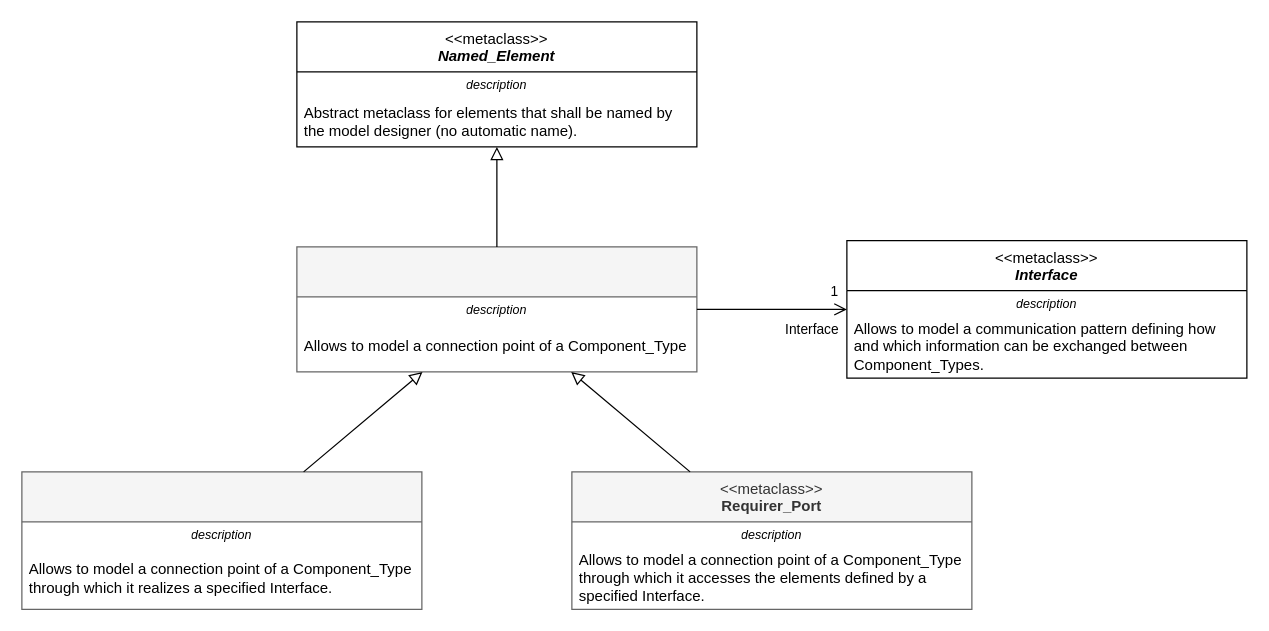
Some shapes in this 1269 by 631 pixel diagram are drawn without their labels. Here are the shapes that lost their labels. From the top down, the box of each, then its label:
(296, 246, 697, 372): <<metaclass>> Port
(21, 471, 422, 609): <<metaclass>> Provider_Port
